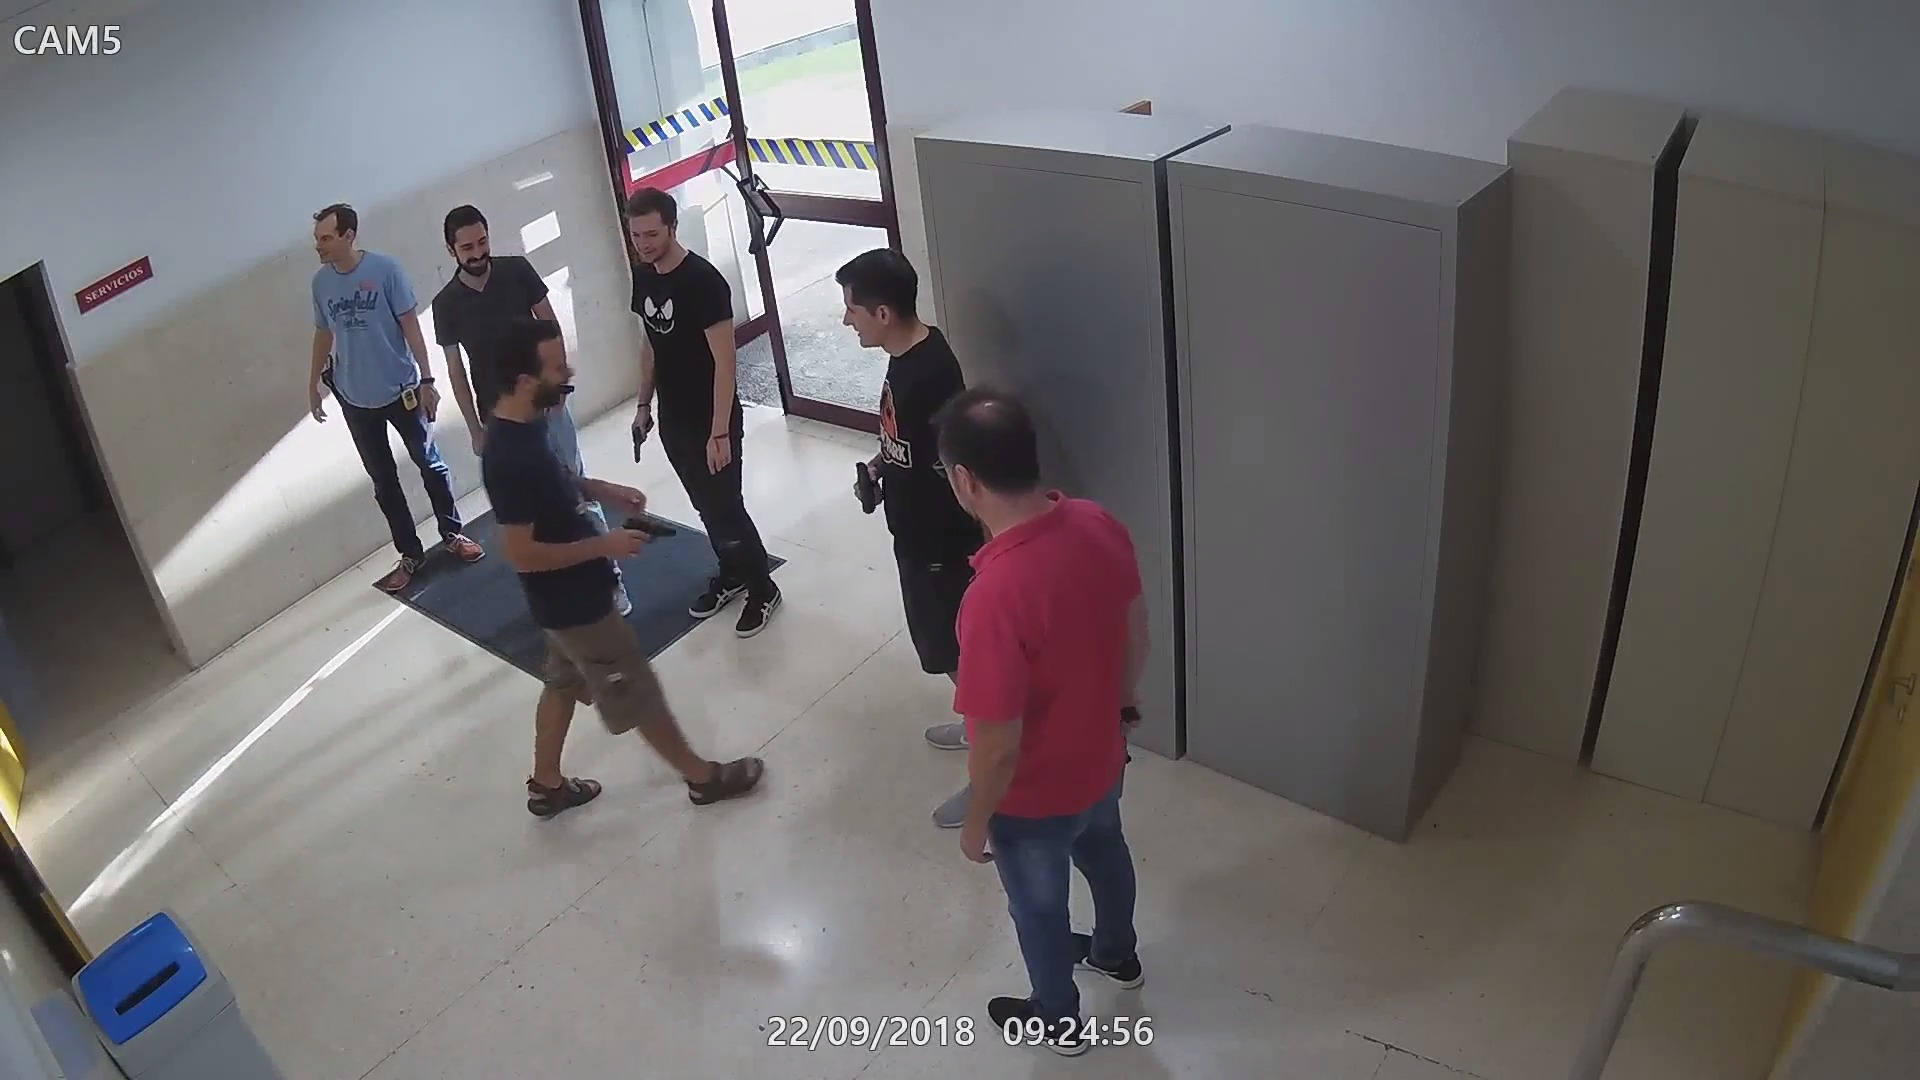Handgun: (605, 506, 679, 563), (851, 460, 887, 530), (624, 407, 661, 469), (1120, 698, 1147, 762), (316, 347, 343, 407)
Knife: (415, 376, 448, 465)
